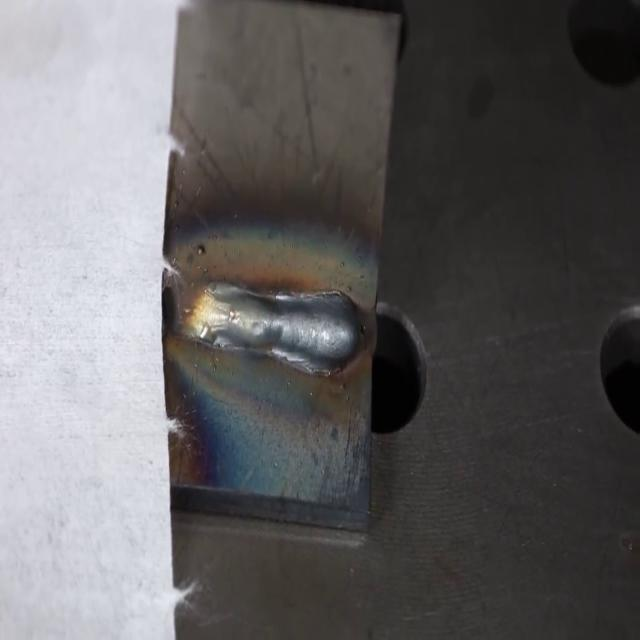Dry Waste: (169, 271, 367, 377)
